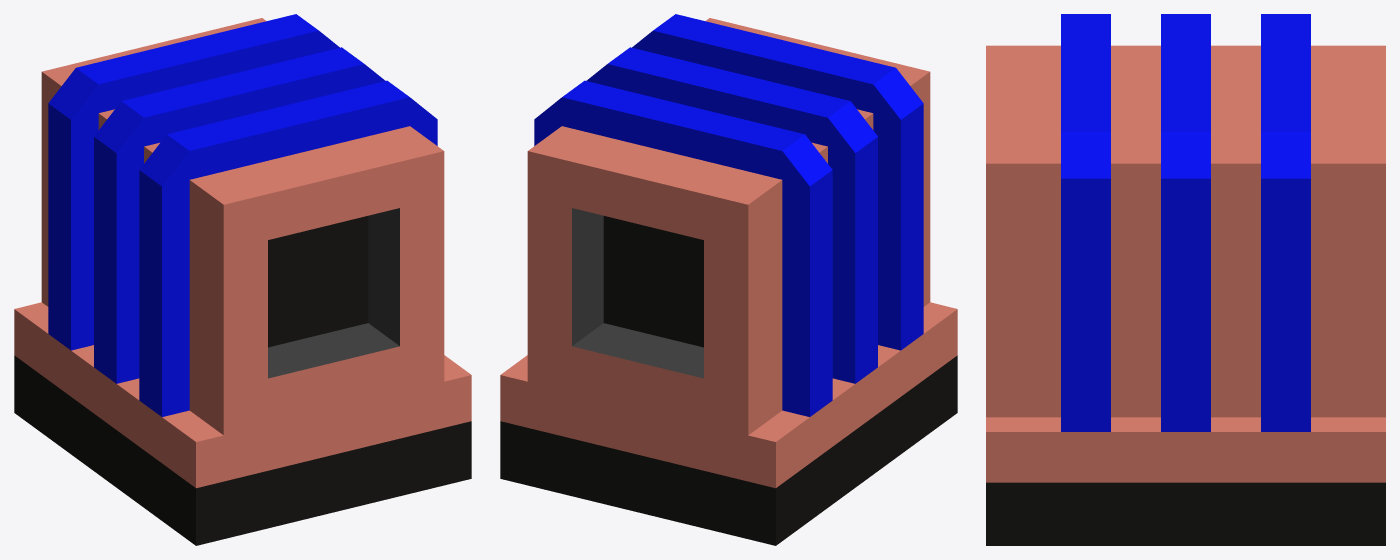
The picture shows the model from 3 angles, left to right: view 1: azimuth 30°, elevation 25°; view 2: azimuth 150°, elevation 25°; view 3: azimuth 270°, elevation 25°; orthographic projection. The views are drawn at different scales.
Visible parts, largest first — view 1: Cube; view 2: Cube; view 3: Cube.
Part boxes in pixels (bbox=[...]): Cube: bbox=[14, 14, 471, 545]; Cube: bbox=[500, 14, 957, 545]; Cube: bbox=[986, 14, 1385, 545].
Bounding box in the file's own units: 5 × 6.3 × 5.72.
